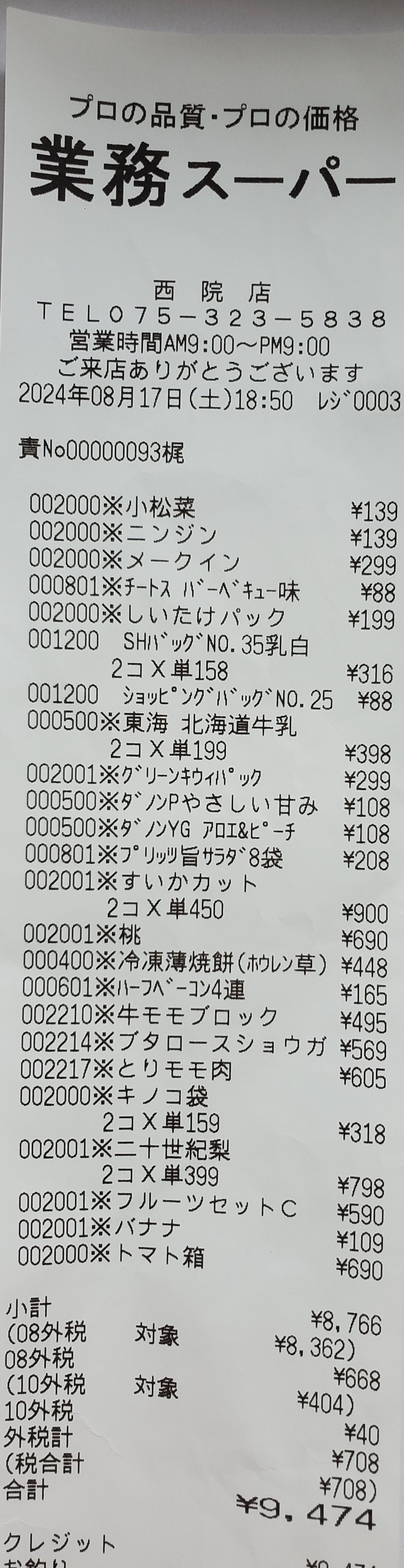Date: (10, 375, 191, 419)
Shopname: (10, 140, 403, 228)
Telnum: (100, 297, 404, 334)
Totalpay: (1, 1482, 398, 1535)
